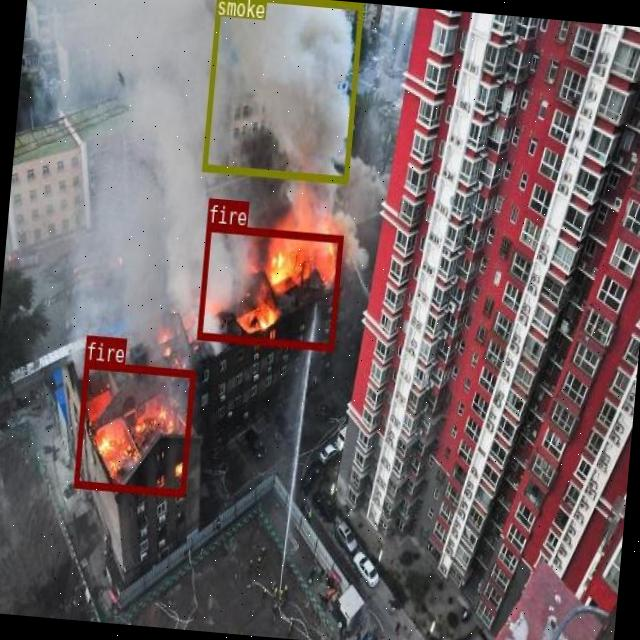fire: (196, 222, 342, 350), (72, 358, 194, 496)
smoke: (201, 0, 363, 181)
